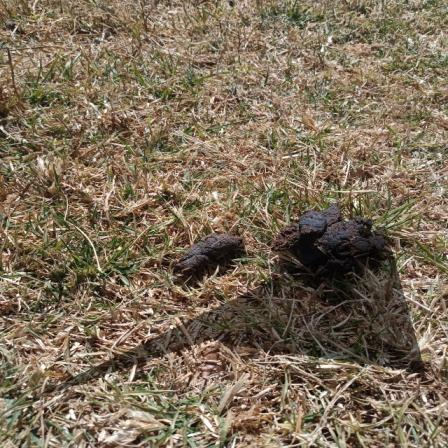dog-poop: (279, 196, 390, 286), (165, 225, 239, 281)
